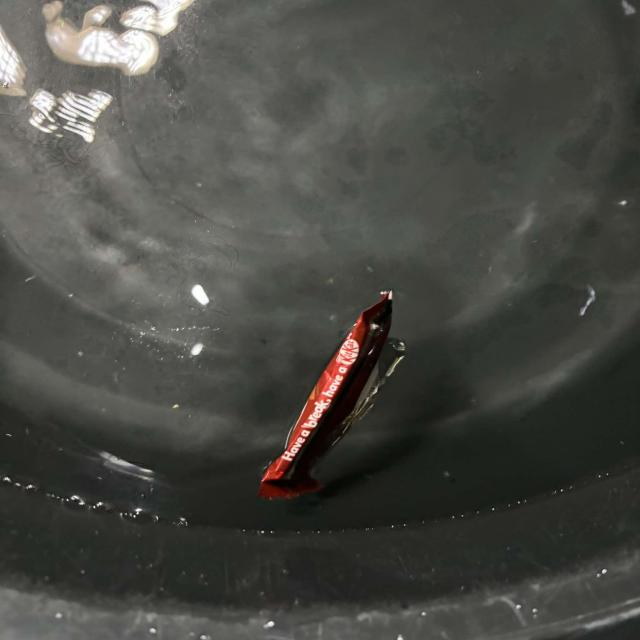Plastic Wrapper: (217, 281, 433, 510)
